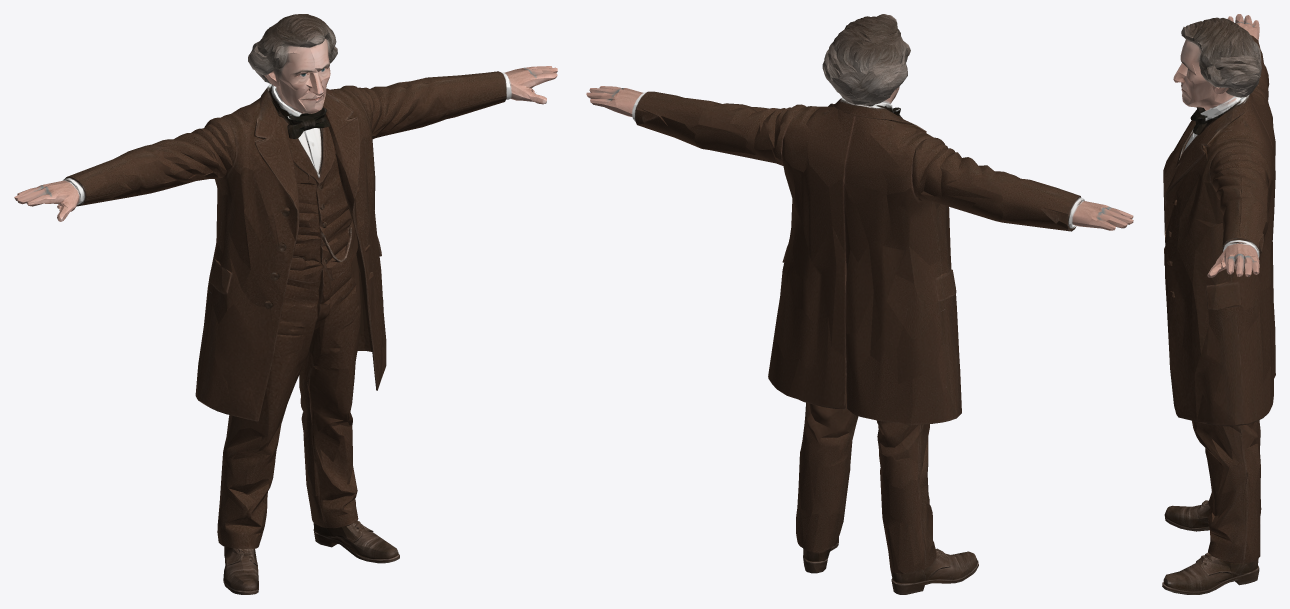
Rendered from jacob-whitmer-remeshed.glb.
3 renders of one model, left to right at view 1: azimuth 30°, elevation 25°; view 2: azimuth 150°, elevation 25°; view 3: azimuth 270°, elevation 25°, orthographic.
Parts seen in each view (by area): view 1: output_unwrapped; view 2: output_unwrapped; view 3: output_unwrapped.
Boxes of the visible parts, x1,y1,x2,y2 form: output_unwrapped: (14,14,557,594); output_unwrapped: (586,14,1133,594); output_unwrapped: (1162,14,1275,594).
Size of the model in its own units: 1.9 by 1.83 by 0.351.
Materials: 1 (1 with a texture image).
